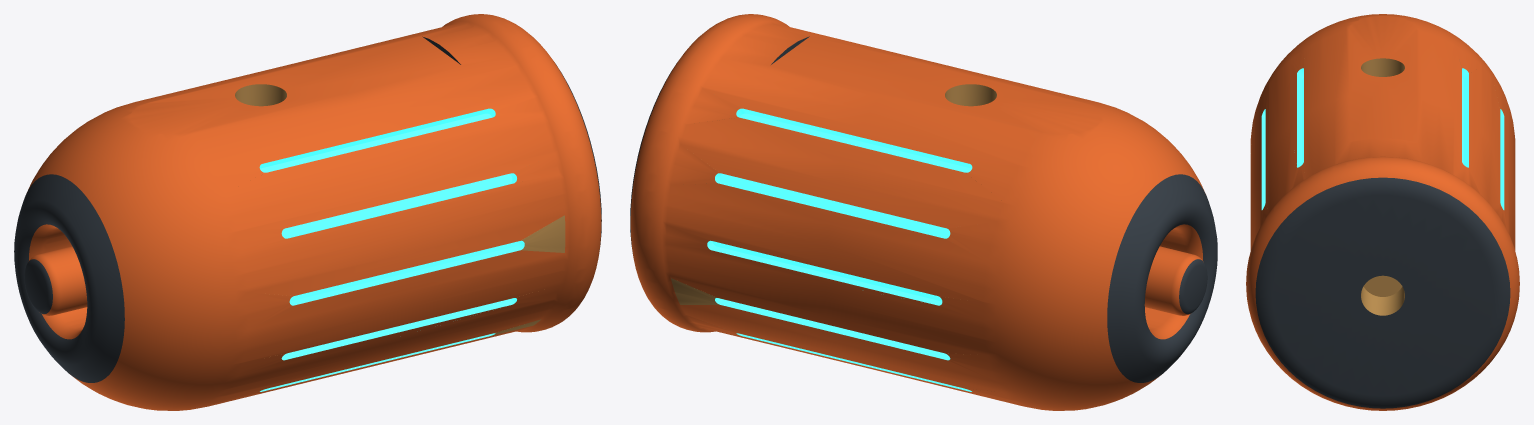
File: wrist-module.glb
3 views of the same model, side by side, from view 1: azimuth 30°, elevation 25°; view 2: azimuth 150°, elevation 25°; view 3: azimuth 270°, elevation 25° (orthographic). The views are drawn at different scales.
Size of the model in its own units: 0.055 by 0.031 by 0.031.
